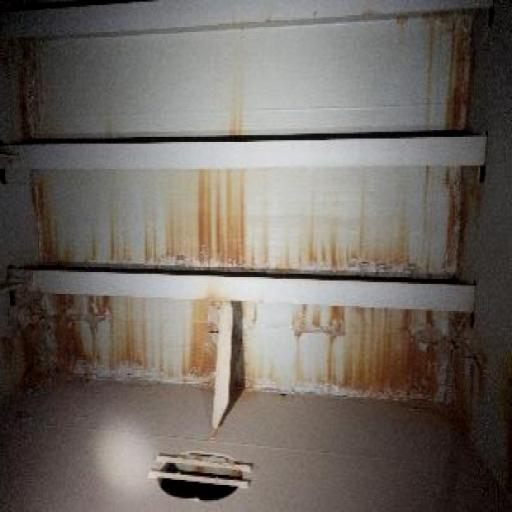Detect-rust-on-metal-surfaces: (9, 7, 492, 441)
